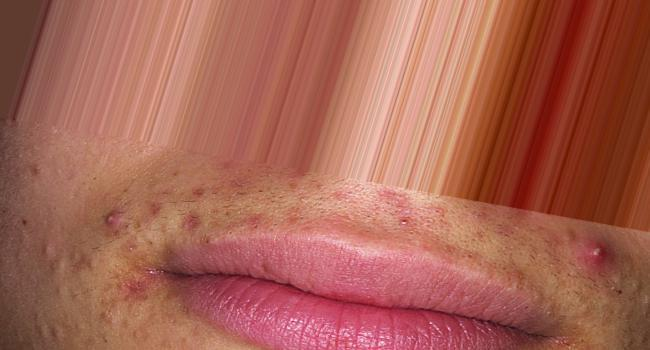Acne: (549, 232, 634, 282), (183, 164, 244, 215), (83, 190, 144, 232)
